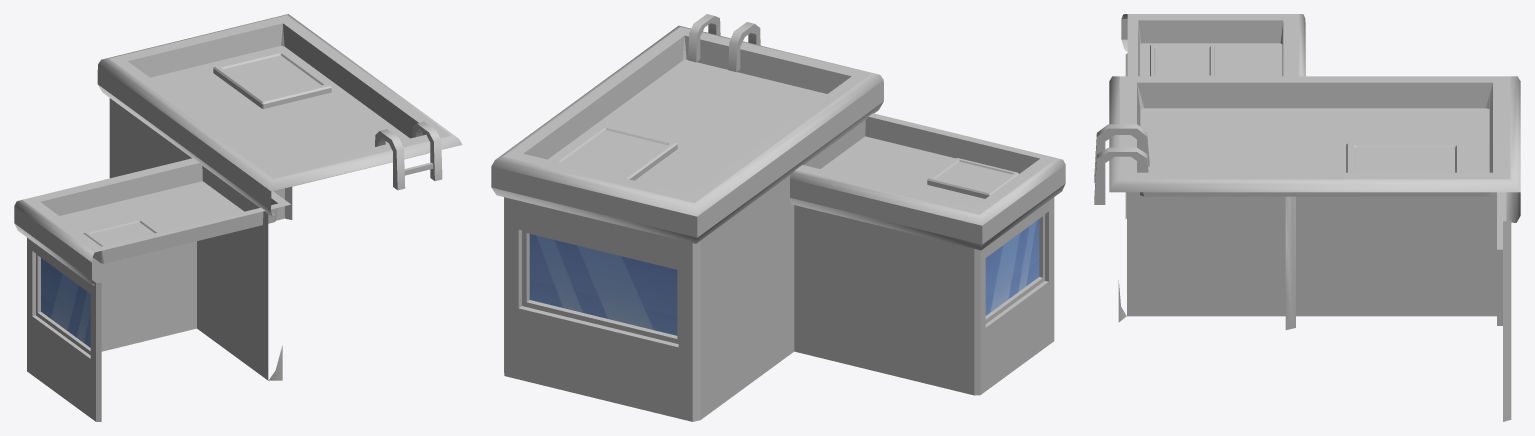
Rendered from Kiosk_1_B.fbx.
3 views of the same model, side by side, from view 1: azimuth 30°, elevation 25°; view 2: azimuth 150°, elevation 25°; view 3: azimuth 270°, elevation 25° (orthographic). The views are drawn at different scales.
Parts seen in each view (by area): view 1: Kiosk_1_B, Kiosk_1_B.001; view 2: Kiosk_1_B, Kiosk_1_B.001; view 3: Kiosk_1_B, Kiosk_1_B.001.
Boxes of the visible parts, bbox=[...] form: Kiosk_1_B: bbox=[97, 14, 462, 380]; Kiosk_1_B.001: bbox=[14, 158, 290, 421]; Kiosk_1_B: bbox=[491, 14, 883, 421]; Kiosk_1_B.001: bbox=[790, 113, 1065, 395]; Kiosk_1_B: bbox=[1094, 76, 1520, 421]; Kiosk_1_B.001: bbox=[1121, 14, 1305, 329].
Bounding box in the file's own units: 533 × 304 × 454.
